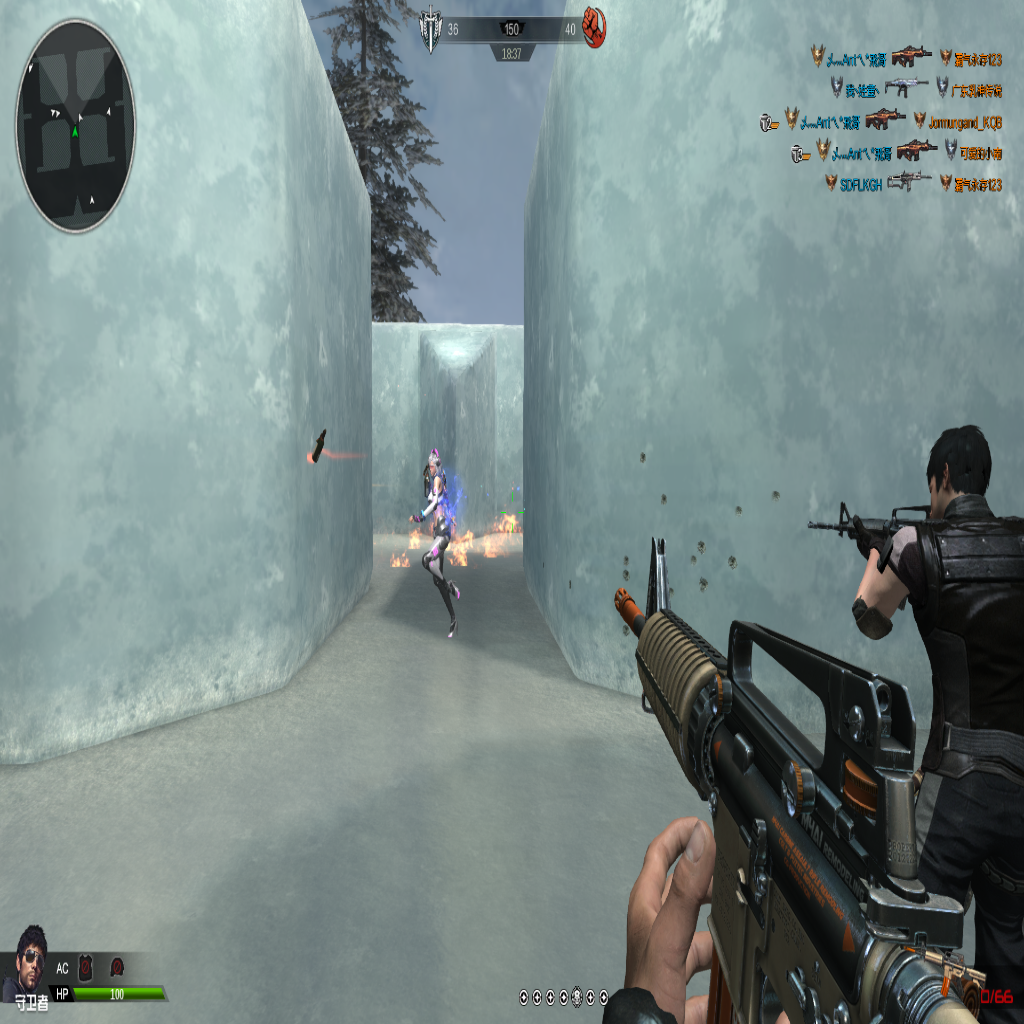tt: (410, 447, 458, 621)
